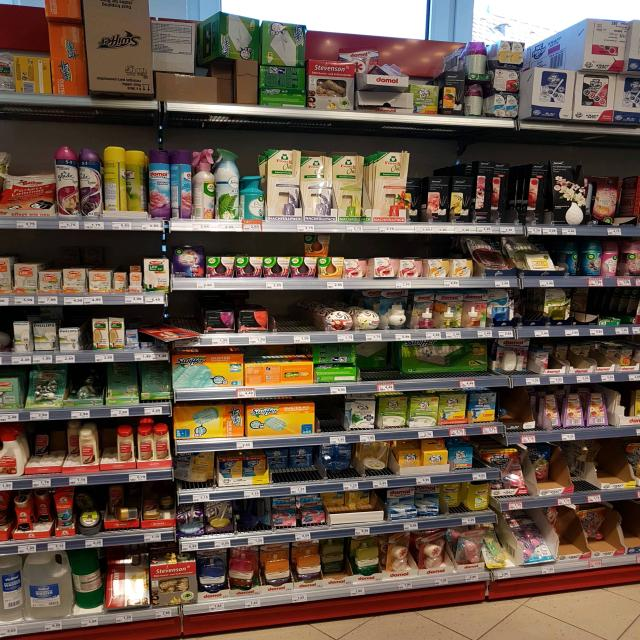unorganised: (354, 54, 415, 114), (403, 345, 489, 377), (105, 488, 175, 525), (141, 318, 202, 345), (125, 151, 148, 218), (102, 147, 124, 216), (530, 450, 568, 489), (68, 369, 105, 407), (270, 451, 318, 480), (174, 151, 193, 221), (587, 508, 616, 552), (359, 347, 401, 377), (178, 453, 213, 487), (498, 343, 530, 380), (110, 367, 140, 406), (553, 510, 579, 554), (383, 291, 412, 330), (141, 366, 170, 403), (323, 495, 386, 512), (324, 447, 359, 477), (485, 527, 509, 570), (320, 541, 349, 576), (544, 290, 572, 326), (363, 446, 393, 476), (29, 427, 51, 466), (418, 487, 443, 520), (407, 179, 426, 220), (444, 483, 467, 515), (31, 496, 51, 531), (562, 243, 583, 274), (64, 424, 78, 465), (361, 261, 372, 277)
